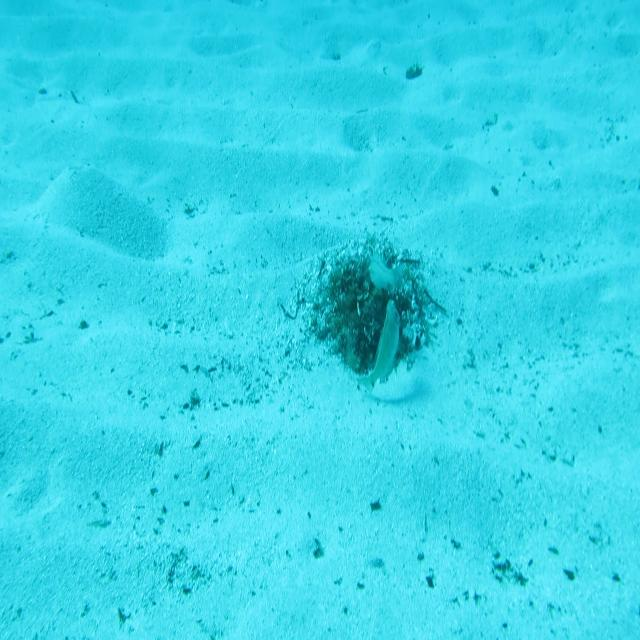GB: (350, 296, 407, 400)
female: (362, 242, 408, 296)
nest: (302, 235, 437, 384)
